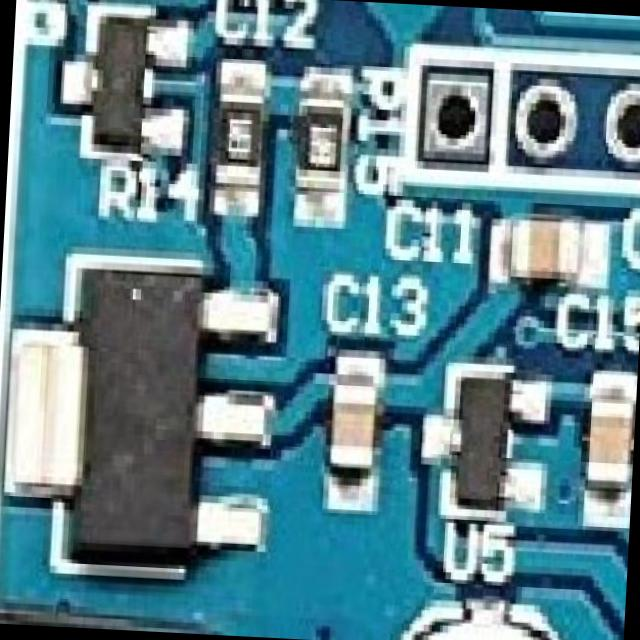IC: (12, 250, 262, 594)
capacitor: (507, 212, 592, 286), (327, 368, 382, 476), (584, 394, 636, 500)
resistor: (298, 82, 352, 199), (213, 86, 269, 194)
transistor: (78, 0, 191, 149), (439, 362, 541, 512)
